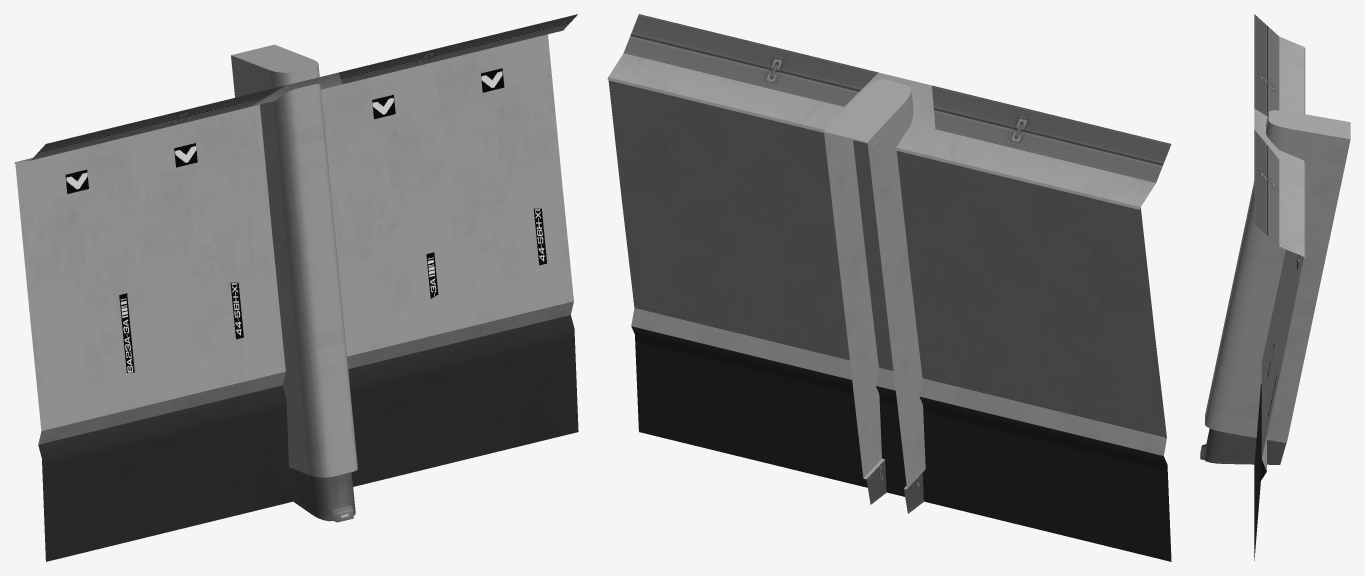
File: sf_wall_astra_divided.glb
3 renders of one model, left to right at view 1: azimuth 30°, elevation 25°; view 2: azimuth 150°, elevation 25°; view 3: azimuth 270°, elevation 25°, orthographic. The views are drawn at different scales.
Visible parts, largest first — view 1: WallAstra_Straight_Divided; view 2: WallAstra_Straight_Divided; view 3: WallAstra_Straight_Divided.
Part boxes in pixels (box(x1,y1,x2,y2)): WallAstra_Straight_Divided: box(14, 14, 578, 561); WallAstra_Straight_Divided: box(607, 14, 1171, 561); WallAstra_Straight_Divided: box(1200, 14, 1350, 560).
Size of the model in its own units: 4 by 3.03 by 1.21.
Materials: 5 (5 with a texture image).
